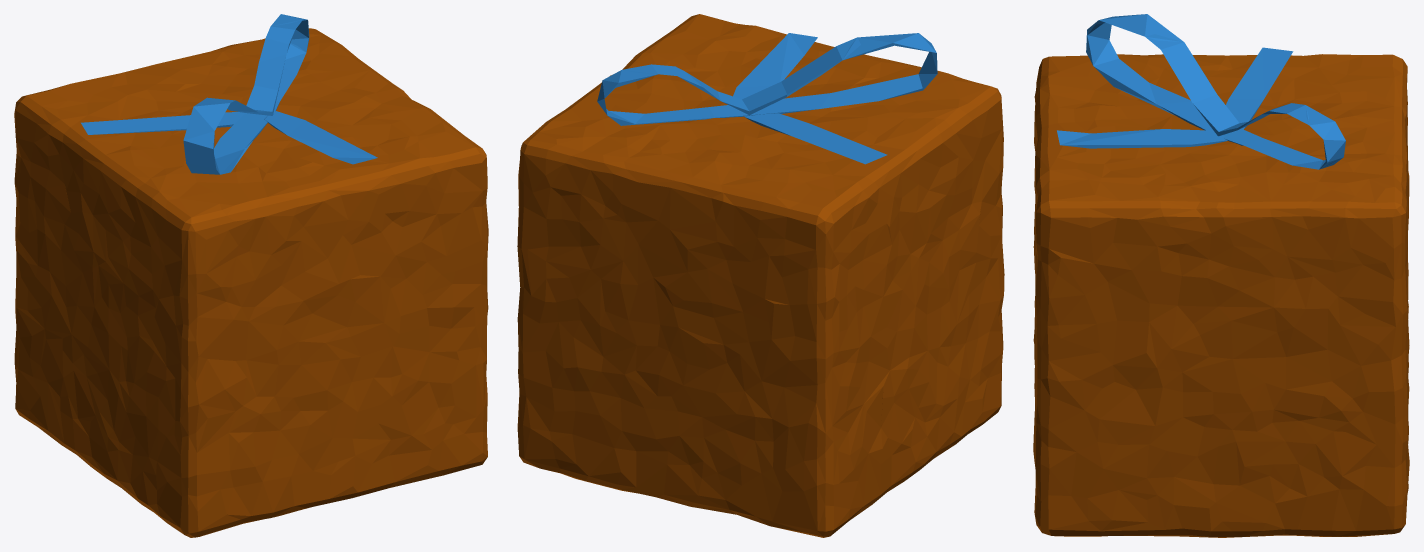
File: Present_1.fbx
3 renders of one model, left to right at view 1: azimuth 30°, elevation 25°; view 2: azimuth 150°, elevation 25°; view 3: azimuth 270°, elevation 25°, orthographic. The views are drawn at different scales.
Parts seen in each view (by area): view 1: Cube.001; view 2: Cube.001; view 3: Cube.001.
Boxes of the visible parts, bbox=[...] form: Cube.001: bbox=[14, 14, 488, 537]; Cube.001: bbox=[517, 14, 1004, 537]; Cube.001: bbox=[1033, 14, 1409, 537].
Bounding box in the file's own units: 65.59 × 77.72 × 65.62.
